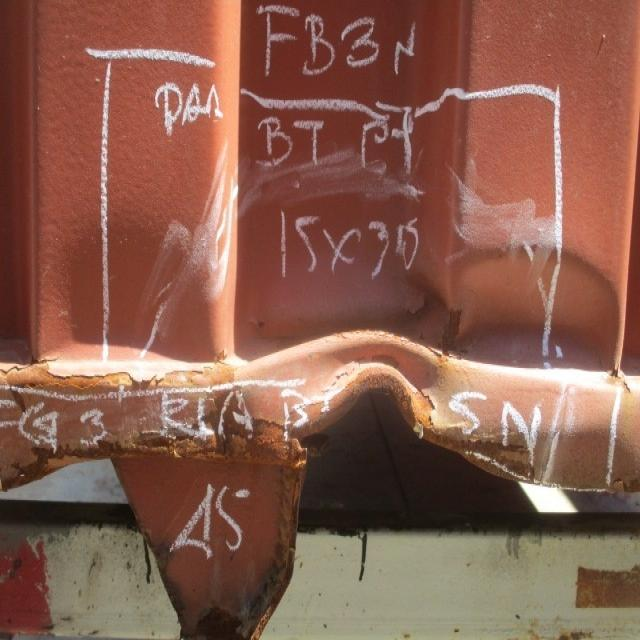Deframe_or_Dent: (26, 204, 628, 386)
